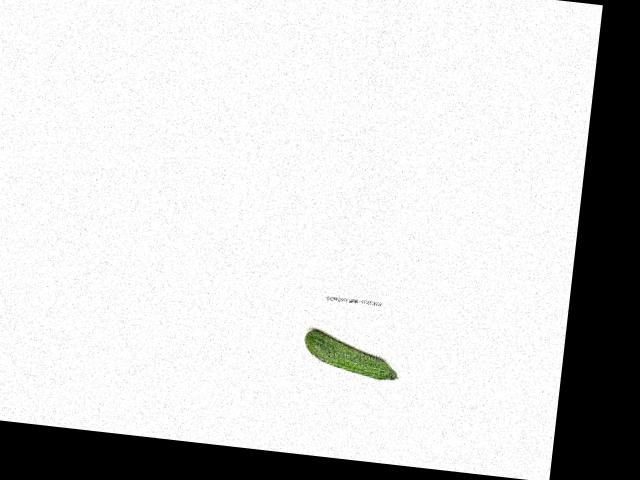cucumber: (302, 328, 403, 381)
